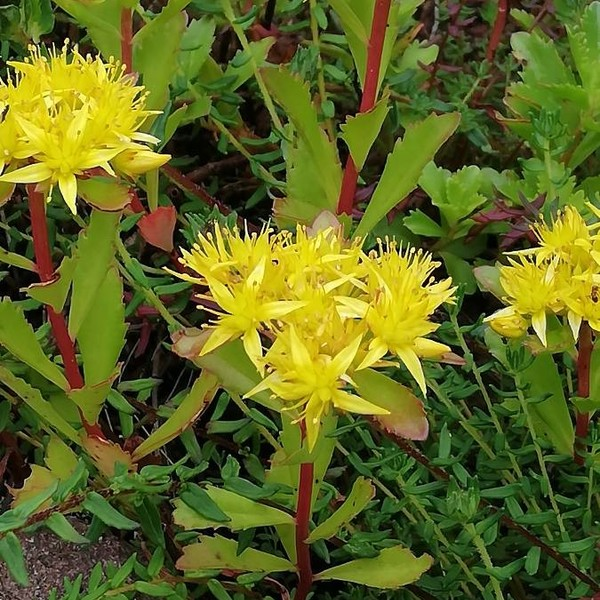obstacle: (173, 184, 463, 553), (213, 5, 562, 223), (6, 31, 156, 445)
